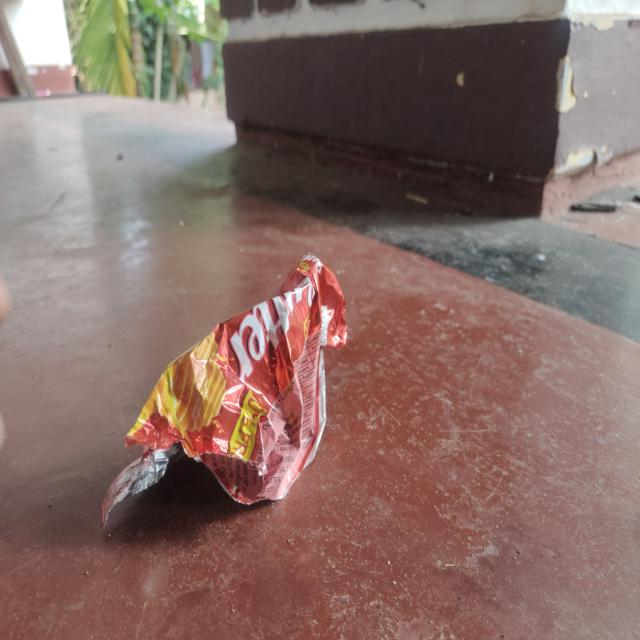plastic: (102, 249, 348, 519)
